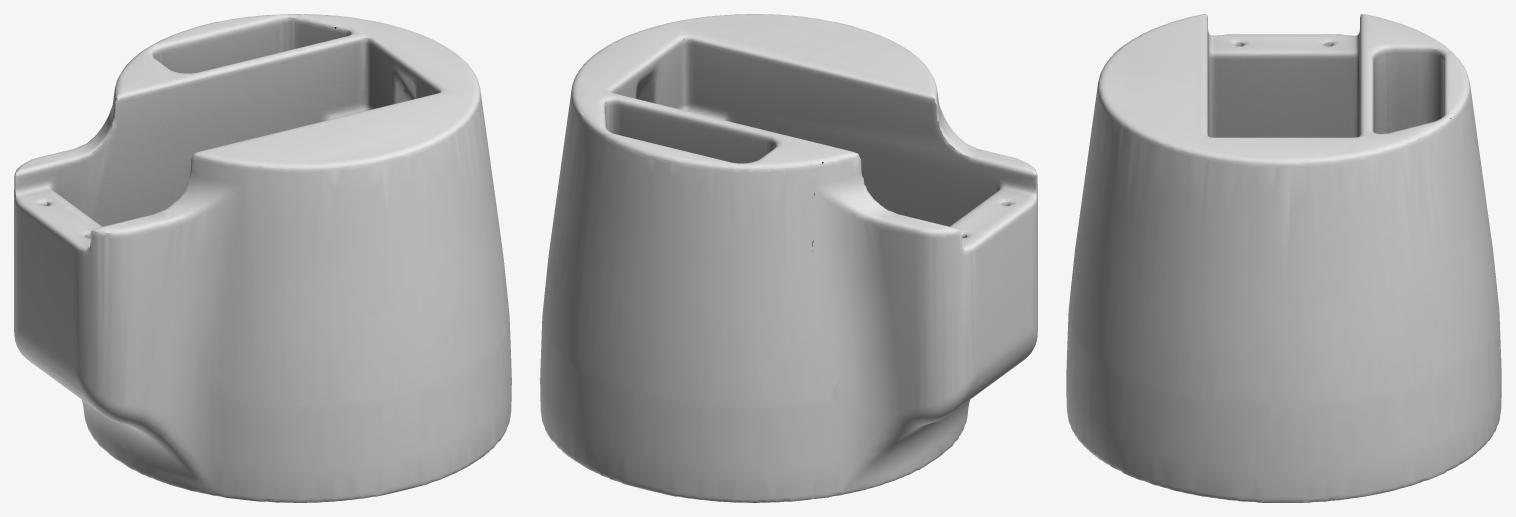
File: left_bisecp_upper.glb
3 views of the same model, side by side, from view 1: azimuth 30°, elevation 25°; view 2: azimuth 150°, elevation 25°; view 3: azimuth 270°, elevation 25° (orthographic).
Visible parts, largest first — view 1: left_bisecp_upper; view 2: left_bisecp_upper; view 3: left_bisecp_upper.
Boxes of the visible parts, bbox=[...] form: left_bisecp_upper: bbox=[14, 14, 511, 502]; left_bisecp_upper: bbox=[540, 14, 1037, 502]; left_bisecp_upper: bbox=[1066, 14, 1501, 502].
Bounding box in the file's own units: 0.0888 × 0.0632 × 0.0756.
1 material, 1 textured.
